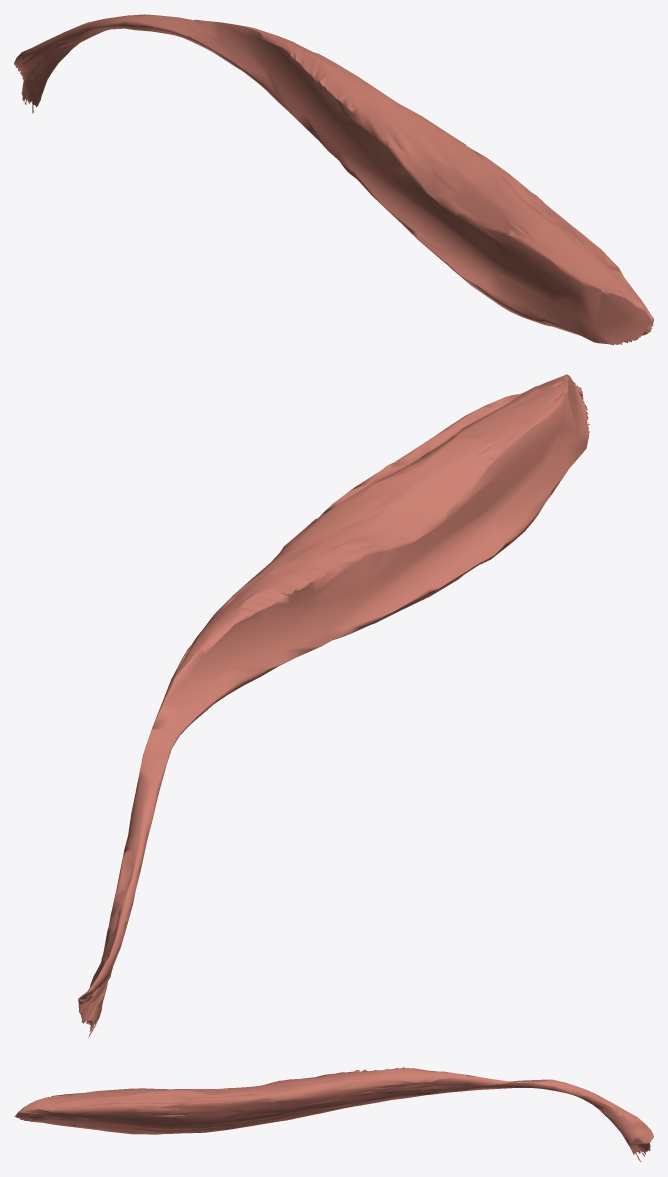
3 views of the same model, one above another, from view 1: azimuth 30°, elevation 25°; view 2: azimuth 150°, elevation 25°; view 3: azimuth 270°, elevation 25° (orthographic). The views are drawn at different scales.
Visible parts, largest first — view 1: 左侧胫骨前肌; view 2: 左侧胫骨前肌; view 3: 左侧胫骨前肌.
Part boxes in pixels (x1,y1,x2,y2): 左侧胫骨前肌: (14,14,653,345); 左侧胫骨前肌: (78,374,589,1037); 左侧胫骨前肌: (14,1067,653,1162).
Bounding box in the file's own units: 0.0896 × 0.1086 × 0.5435.
